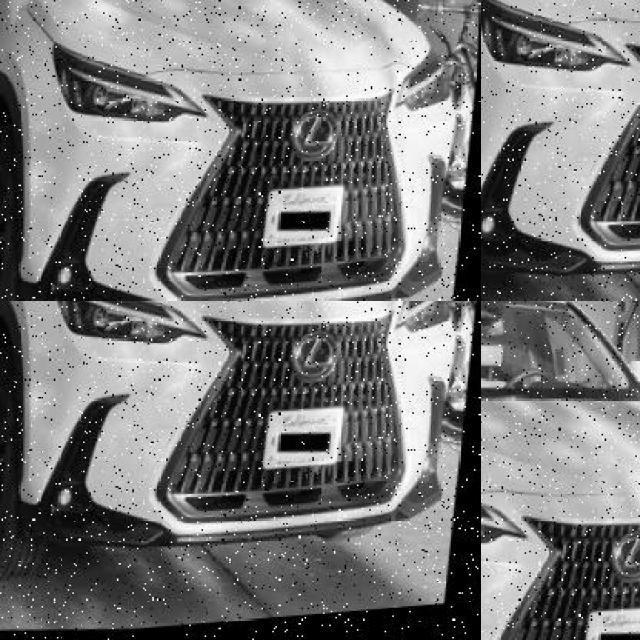LicensePlate: (590, 616, 639, 639)
